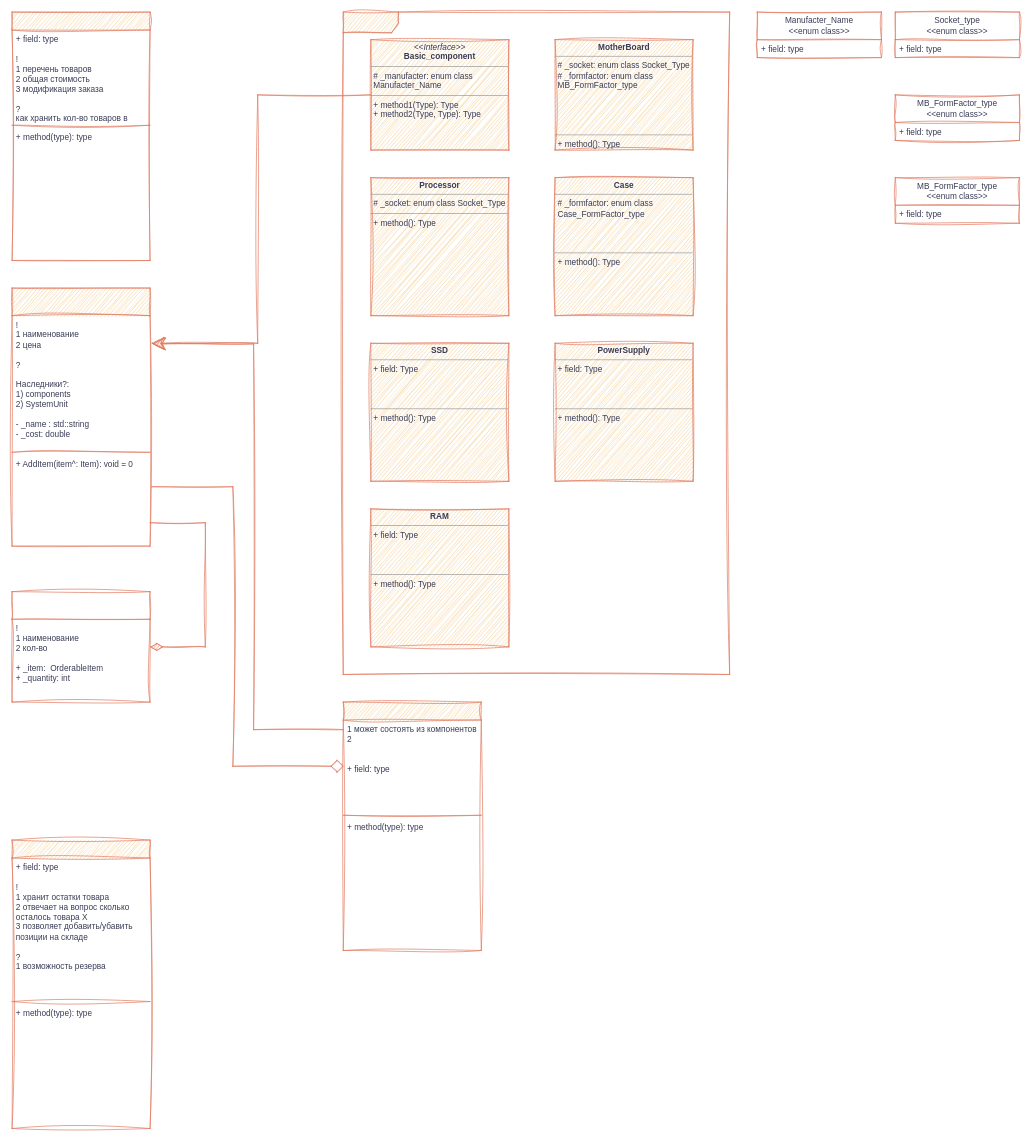
Some shapes in this 1032 by 1143 pixel diagram are drawn without their labels. The box of each missing label's shape, as (x1, y1, x2, y2) in pixels:
Components: (343, 11, 730, 674)
Order: (11, 11, 150, 260)
OrderableItem <<Abstract class>>: (11, 287, 150, 546)
Store: (11, 839, 150, 1128)
StorePosition <<struct>>: (11, 591, 150, 702)
SystemUnit: (343, 701, 481, 950)
